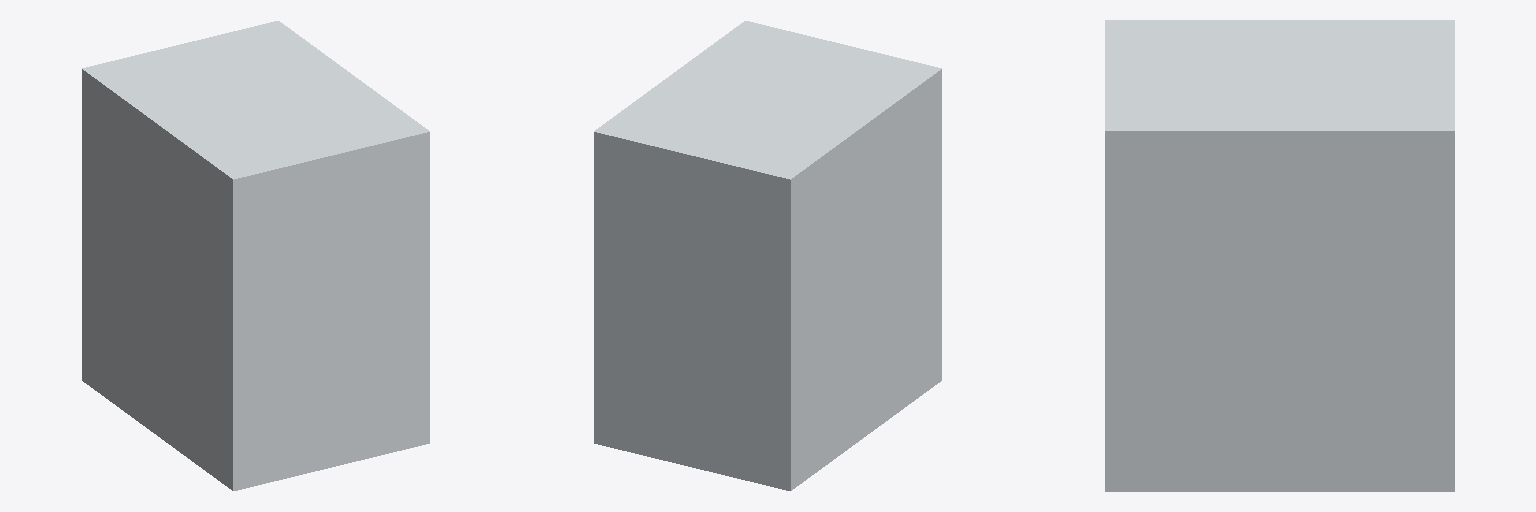
The robot description file, URDF, robot "asm2":
<robot
  name="asm2">
  <link
    name="base_link">
    <inertial>
      <origin
        xyz="0.0052586810490694 -0.00328781725888324 0.0395"
        rpy="0 0 0" />
      <mass
        value="1.12980183887578" />
      <inertia
        ixx="0.00134178588749315"
        ixy="-3.01120212748905E-21"
        ixz="-7.40017252919115E-36"
        iyy="0.000917338508881454"
        iyz="-1.04044666462781E-36"
        izz="0.00108394218363731" />
    </inertial>
    <visual>
      <origin
        xyz="0 0 0"
        rpy="0 0 0" />
      <geometry>
        <mesh
          filename="package://asm2/meshes/base_link.STL" />
      </geometry>
      <material
        name="">
        <color
          rgba="0.894117647058823 0.913725490196078 0.929411764705882 1" />
      </material>
    </visual>
    <collision>
      <origin
        xyz="0 0 0"
        rpy="0 0 0" />
      <geometry>
        <mesh
          filename="package://asm2/meshes/base_link.STL" />
      </geometry>
    </collision>
  </link>
</robot>

--- Render facts (derived) ---
Views: 3 orthographic renders of the robot side by side, from view 1: azimuth 30°, elevation 25°; view 2: azimuth 150°, elevation 25°; view 3: azimuth 270°, elevation 25°.
Robot: asm2 — 1 links, 0 joints (none); root link base_link; default pose: all joints at 0.
Links seen in each view (by area): view 1: base_link; view 2: base_link; view 3: base_link.
Link boxes in pixels (<box>): base_link: <box>82,21,429,490</box>; base_link: <box>594,21,941,490</box>; base_link: <box>1105,20,1454,491</box>.
Bounding box of the posed robot: 0.0592 × 0.079 × 0.0895 m (x, y, z).
1 mesh visuals loaded from 1 distinct referenced files (1 binary STL).